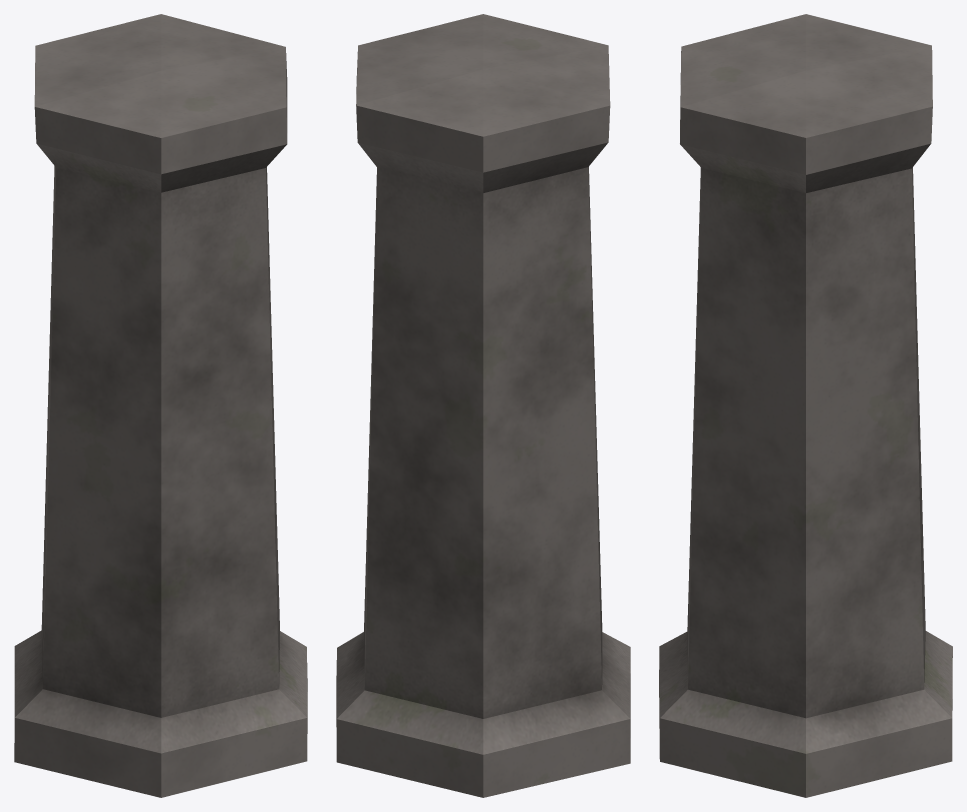
File: puzzle_runa_pedra.glb
3 views of the same model, side by side, from view 1: azimuth 30°, elevation 25°; view 2: azimuth 150°, elevation 25°; view 3: azimuth 270°, elevation 25° (orthographic).
Visible parts, largest first — view 1: puzzle_runa_pedra; view 2: puzzle_runa_pedra; view 3: puzzle_runa_pedra.
Boxes of the visible parts, <box> form: puzzle_runa_pedra: <box>14,14,307,797</box>; puzzle_runa_pedra: <box>336,14,630,797</box>; puzzle_runa_pedra: <box>659,14,952,797</box>.
Bounding box in the file's own units: 0.8433 × 1.8 × 0.7305.
Materials: 1 (1 with a texture image).
